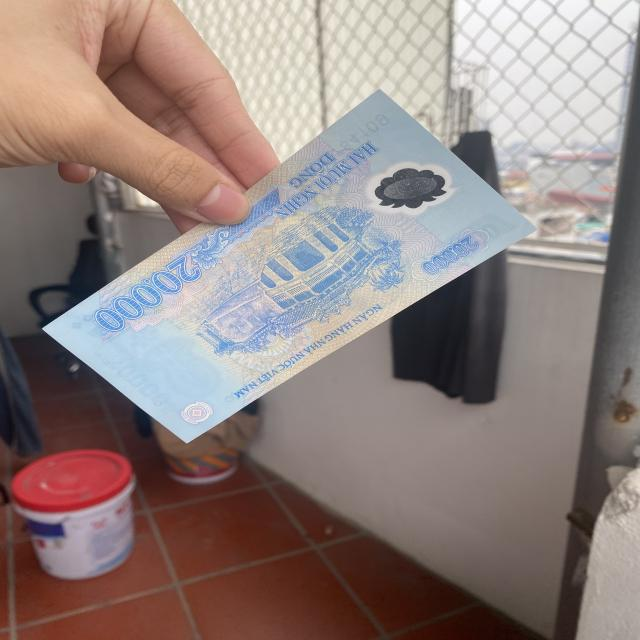20 000 VND: (36, 84, 538, 450)
